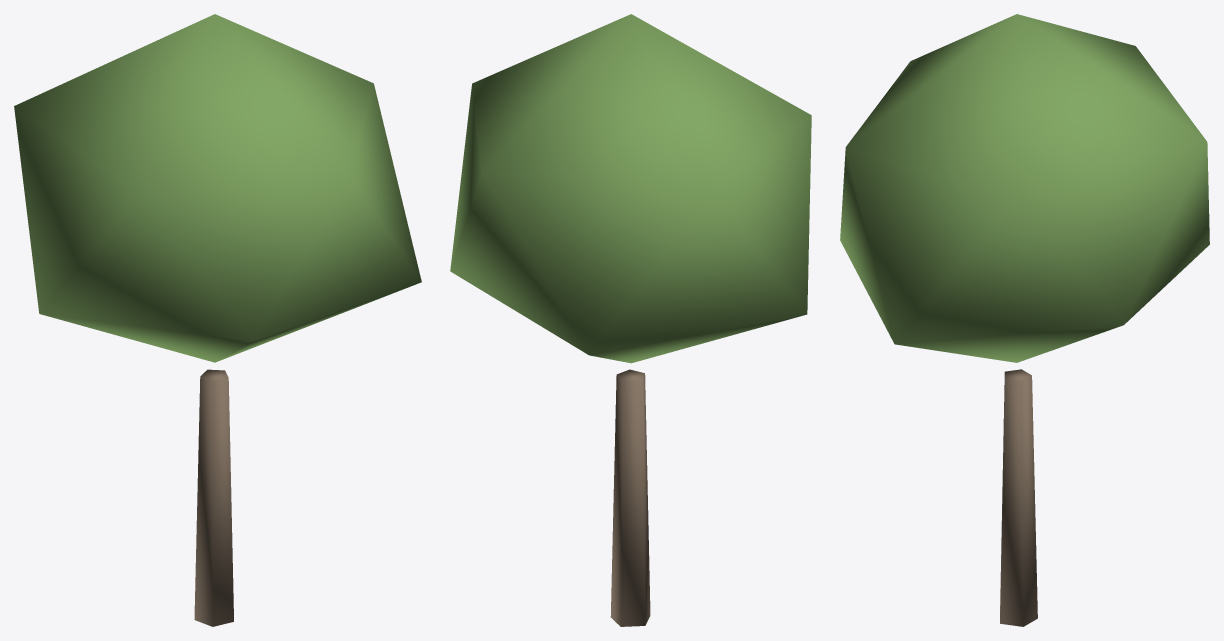
Rendered from tree_lod.glb.
The picture shows the model from 3 angles, left to right: view 1: azimuth 30°, elevation 25°; view 2: azimuth 150°, elevation 25°; view 3: azimuth 270°, elevation 25°; orthographic projection.
Parts seen in each view (by area): view 1: tree_lod; view 2: tree_lod; view 3: tree_lod.
Part boxes in pixels (bbox=[...]): tree_lod: bbox=[14, 14, 421, 626]; tree_lod: bbox=[450, 14, 811, 626]; tree_lod: bbox=[840, 14, 1209, 626].
Bounding box in the file's own units: 4.61 × 7.96 × 4.41.
